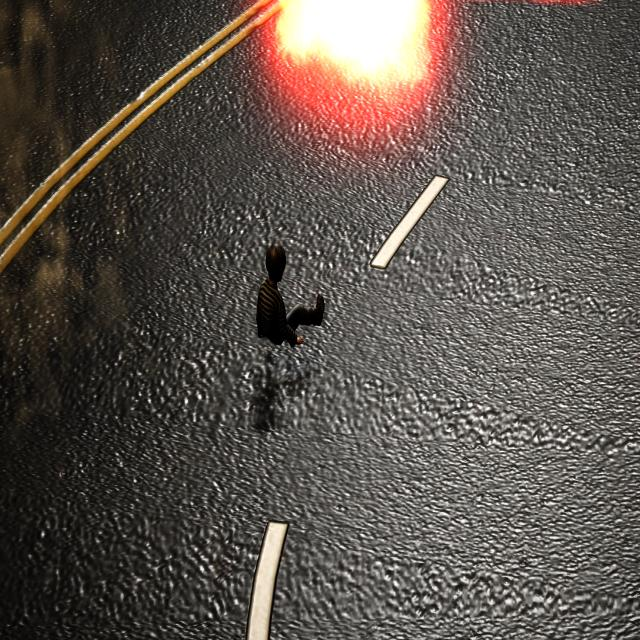Human: (246, 229, 326, 349)
